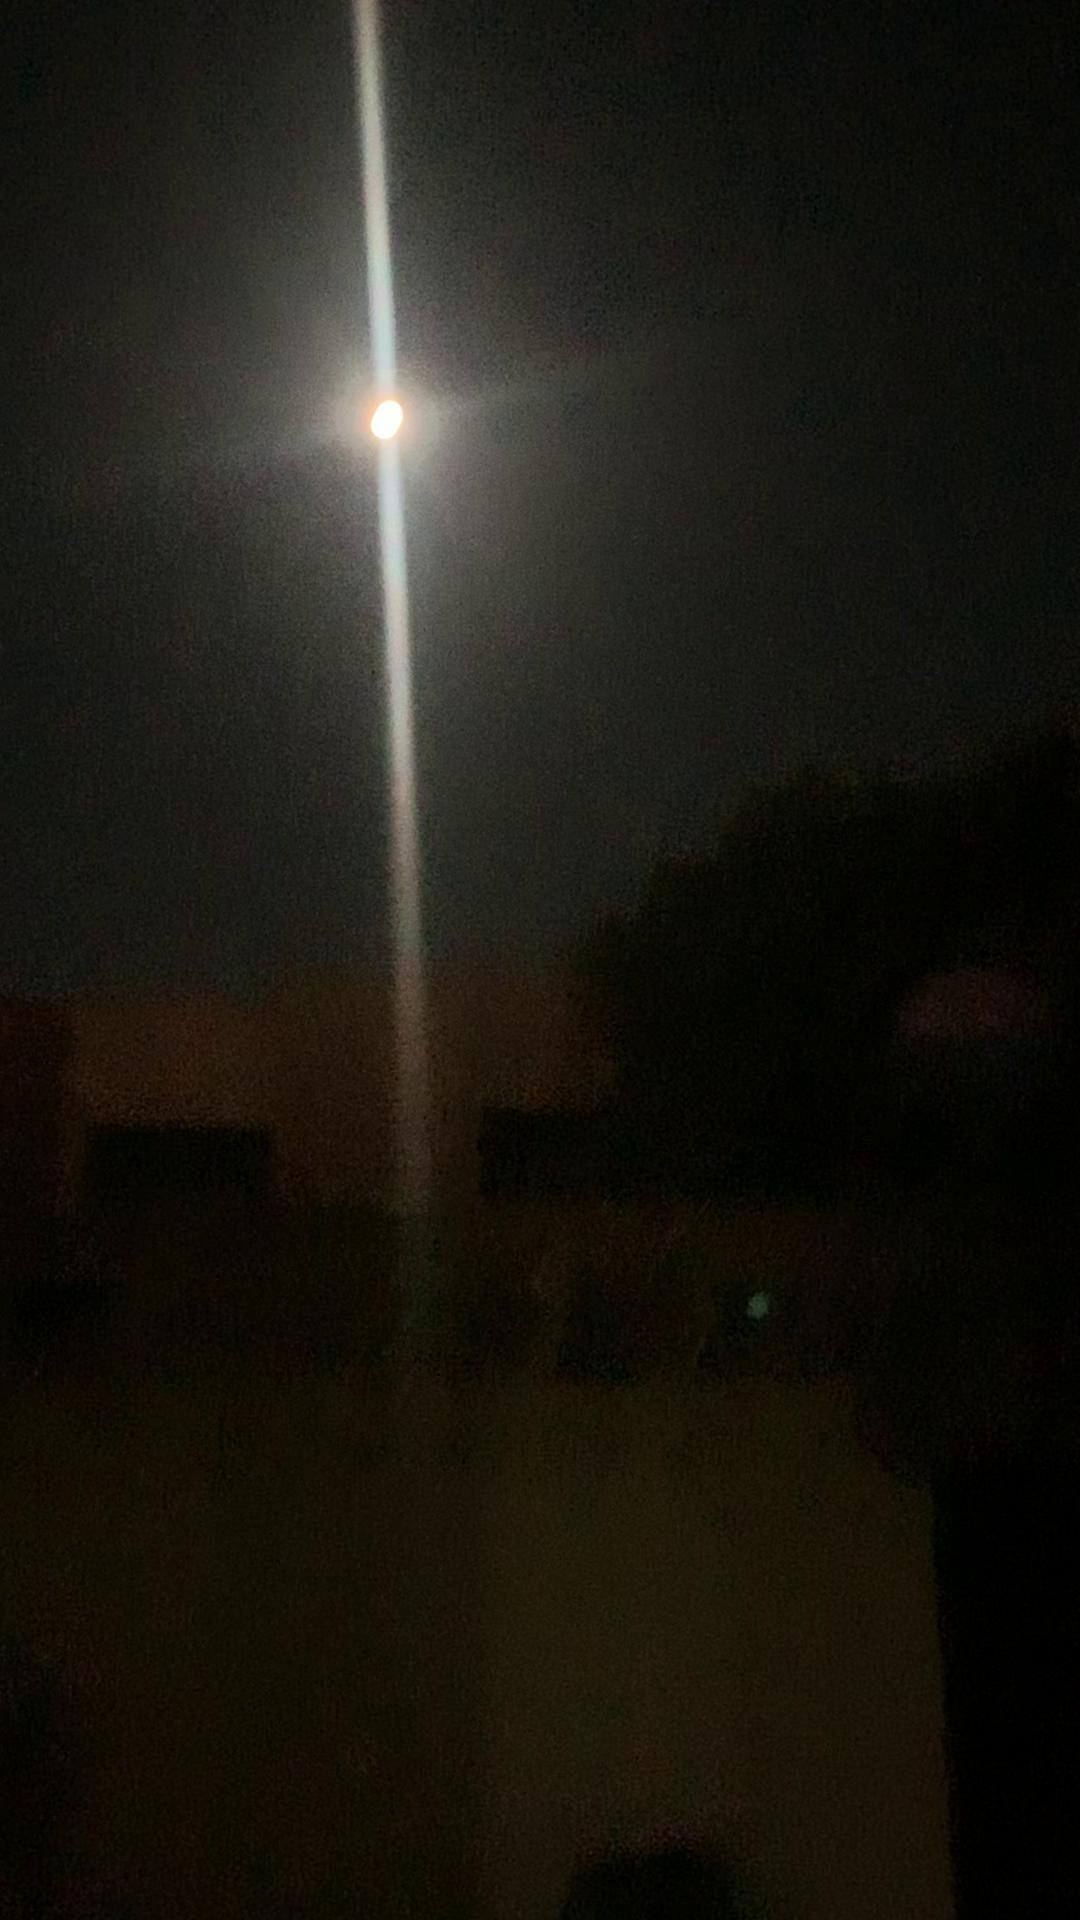moon: (335, 372, 440, 471)
